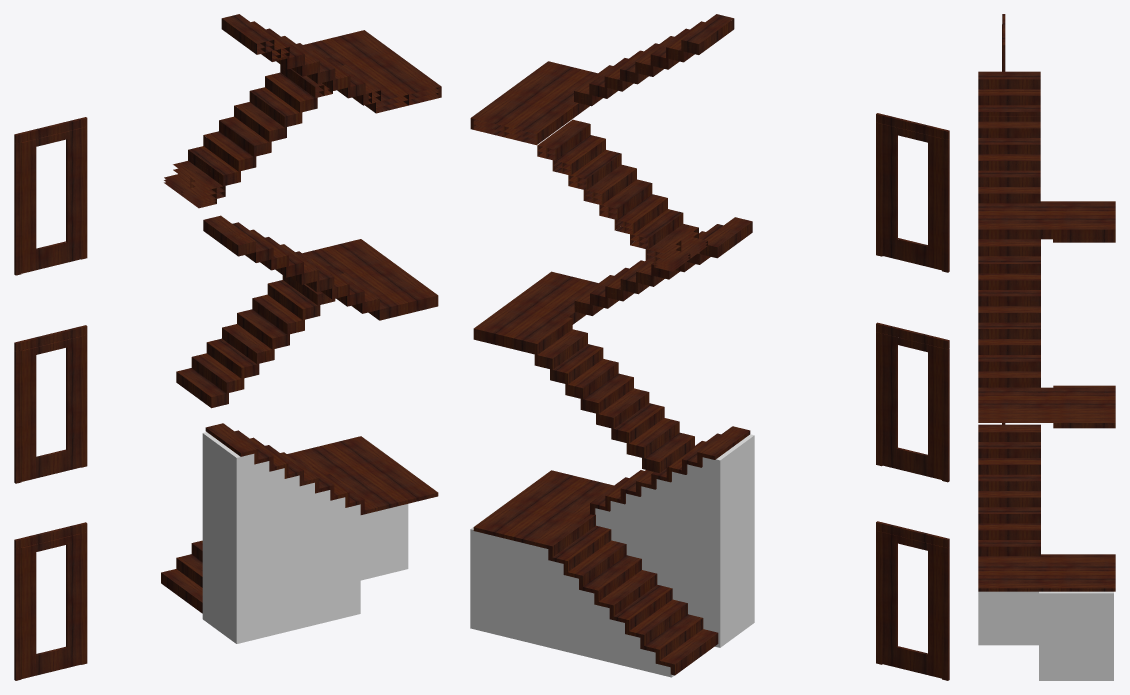
The model's file is lift-door-simple-wood.glb.
The picture shows the model from 3 angles, left to right: view 1: azimuth 30°, elevation 25°; view 2: azimuth 150°, elevation 25°; view 3: azimuth 270°, elevation 25°; orthographic projection. The views are drawn at different scales.
Parts seen in each view (by area): view 1: Lift | Photographed walnut door finish (4).001, interior.004; view 2: Lift | Photographed walnut door finish (4).001, interior.004; view 3: Lift | Photographed walnut door finish (4).001, interior.004.
Part boxes in pixels (x1,y1,x2,y2): Lift | Photographed walnut door finish (4).001: [14, 14, 441, 680]; interior.004: [202, 432, 408, 643]; Lift | Photographed walnut door finish (4).001: [470, 14, 949, 680]; interior.004: [470, 434, 754, 677]; Lift | Photographed walnut door finish (4).001: [978, 14, 1115, 591]; interior.004: [978, 591, 1113, 680].
Bounding box in the file's own units: 6.8 × 9.36 × 2.2.
Materials: 1 (1 with a texture image).
